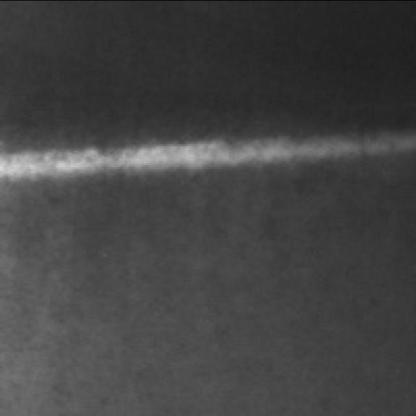scratches: (0, 127, 408, 179)
